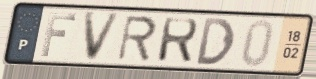0: (239, 18, 278, 70)
D: (195, 16, 237, 67)
F: (38, 11, 79, 59)
R: (155, 16, 200, 65), (115, 14, 159, 63)
V: (82, 11, 124, 64)
